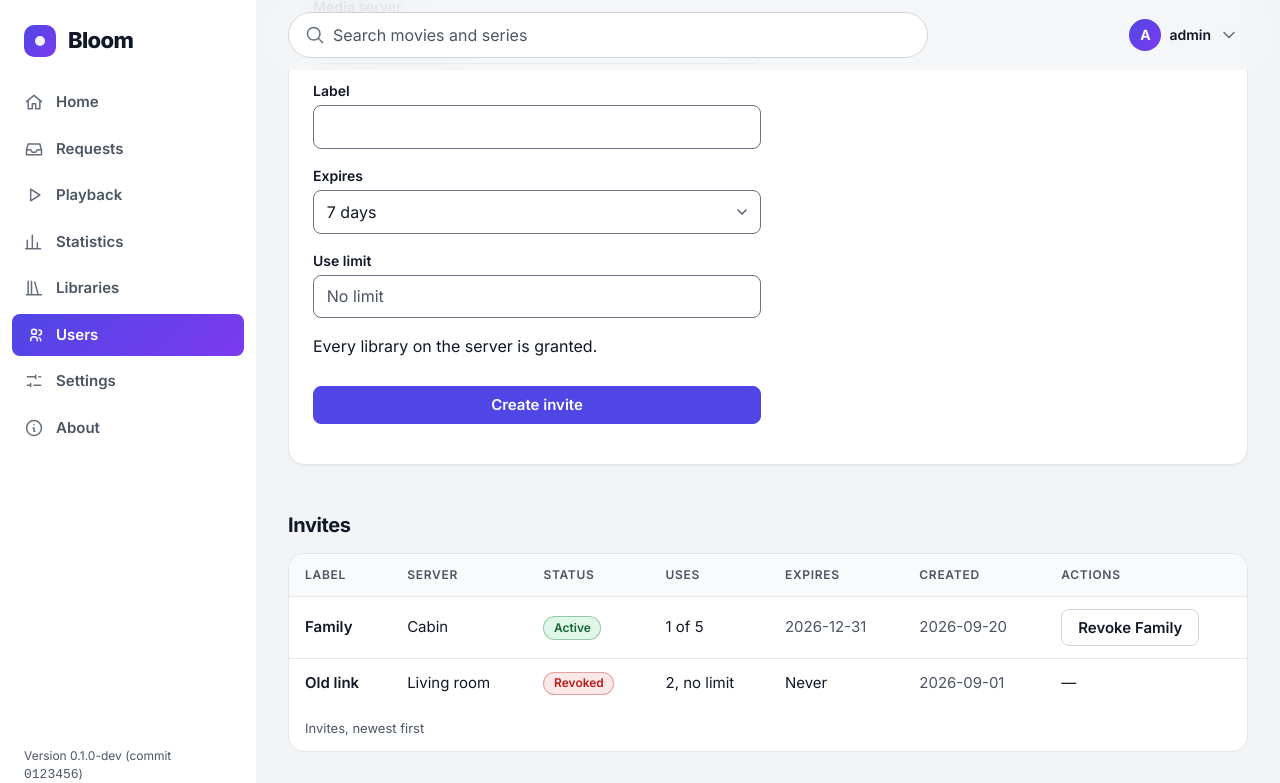
Test: focuses the explanation when a revocation fails
This screenshot has width=1280, height=783.
(page scrolled)
Click the button "Revoke Family".
click(1130, 628)  # box [1061,609,1199,646]
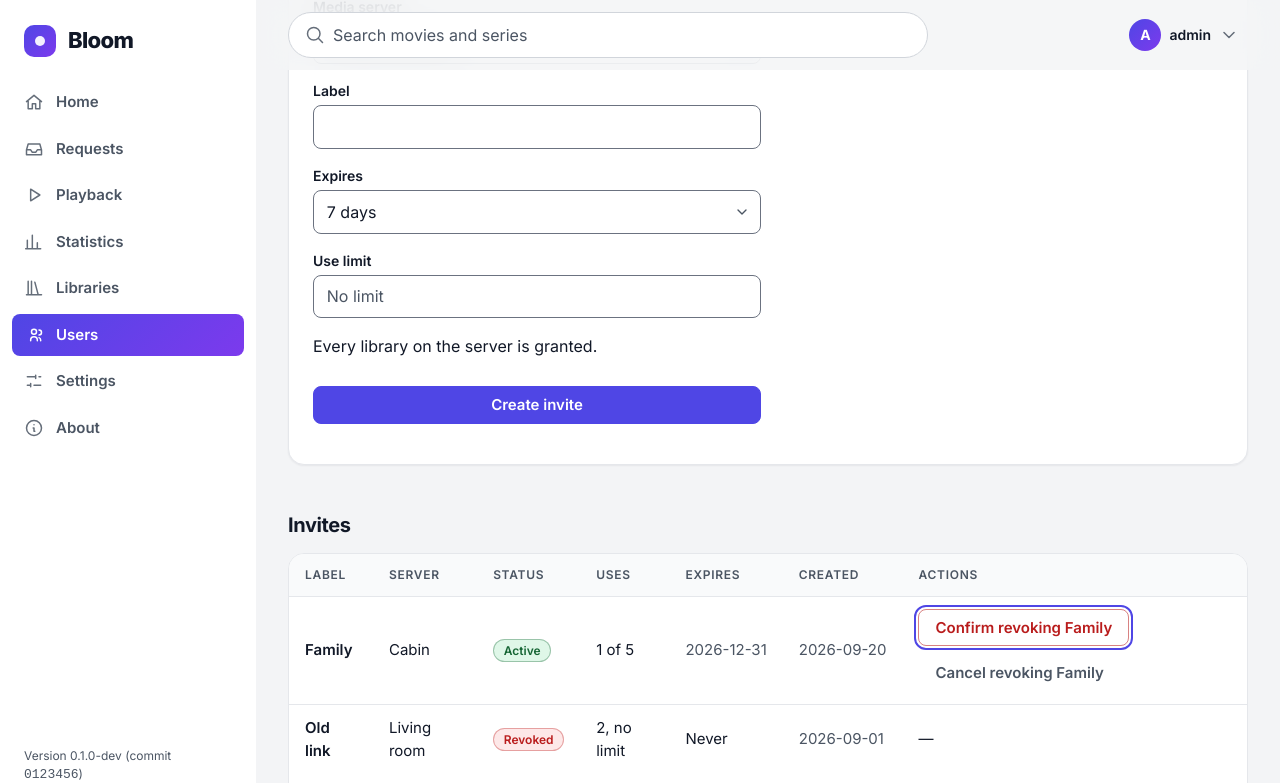
Click the button "Confirm revoking Family".
click(1024, 628)  # box [918,609,1129,646]
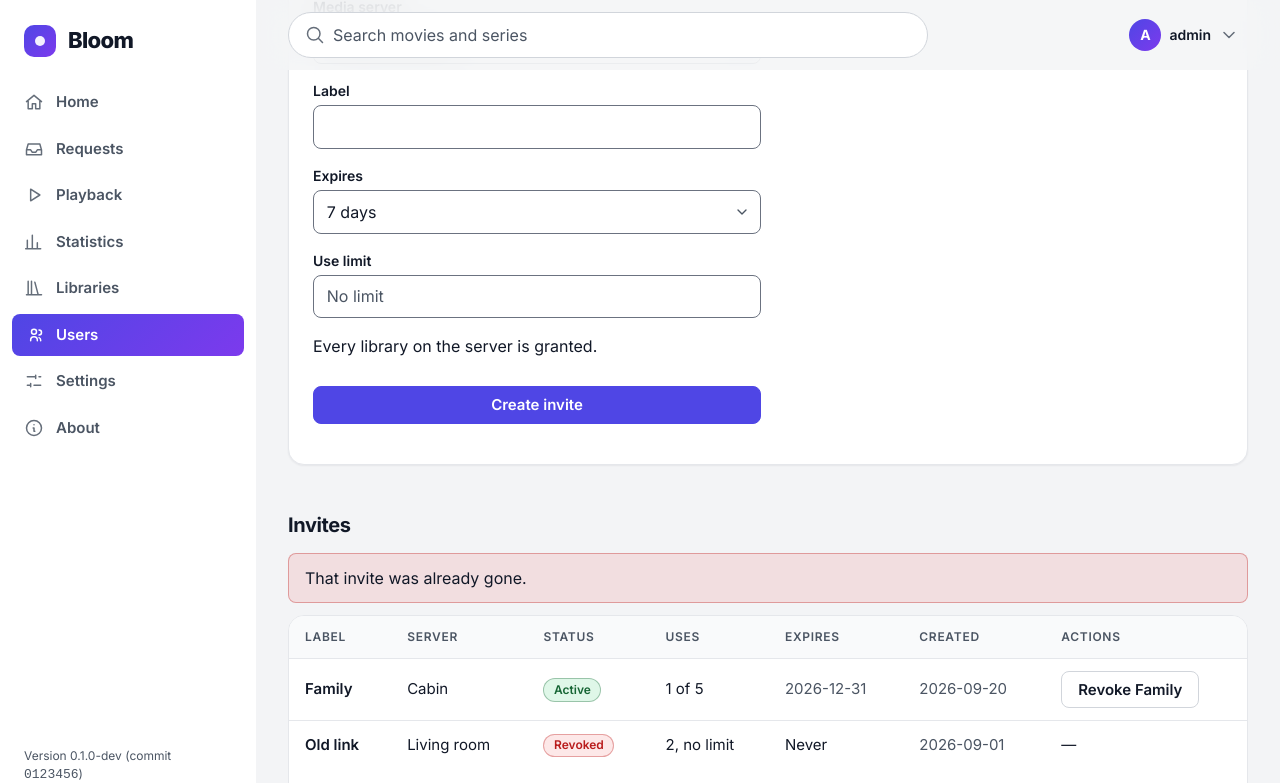
Now the message reads "That invite was already gone.", box [305,568,527,588]
